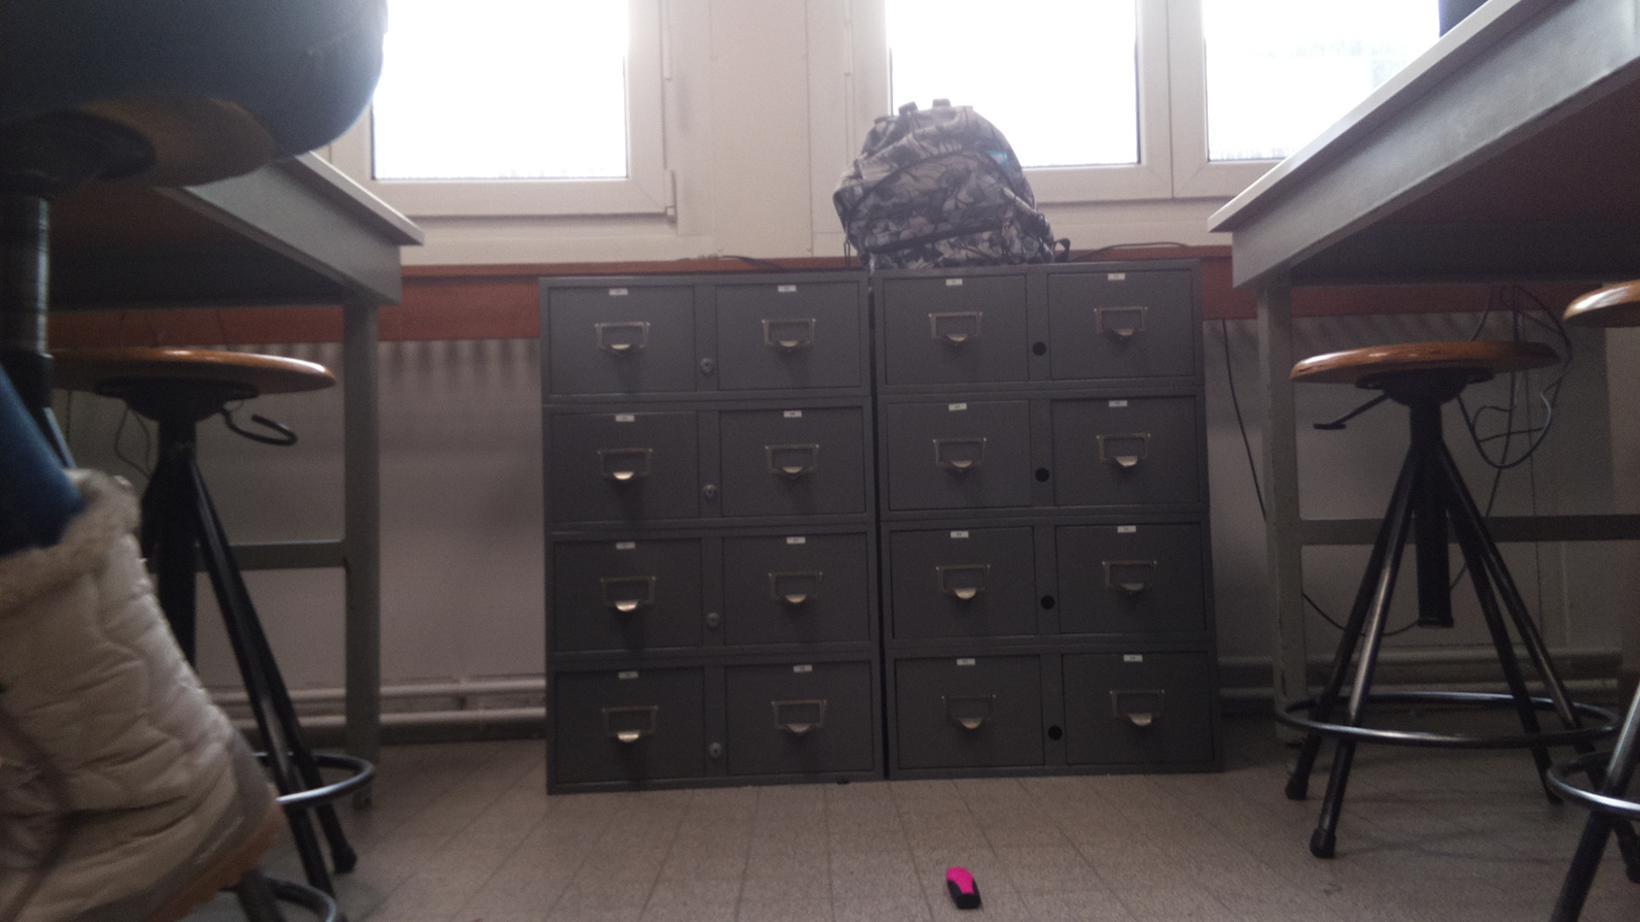big: (832, 96, 1087, 272)
small: (944, 862, 990, 922)
